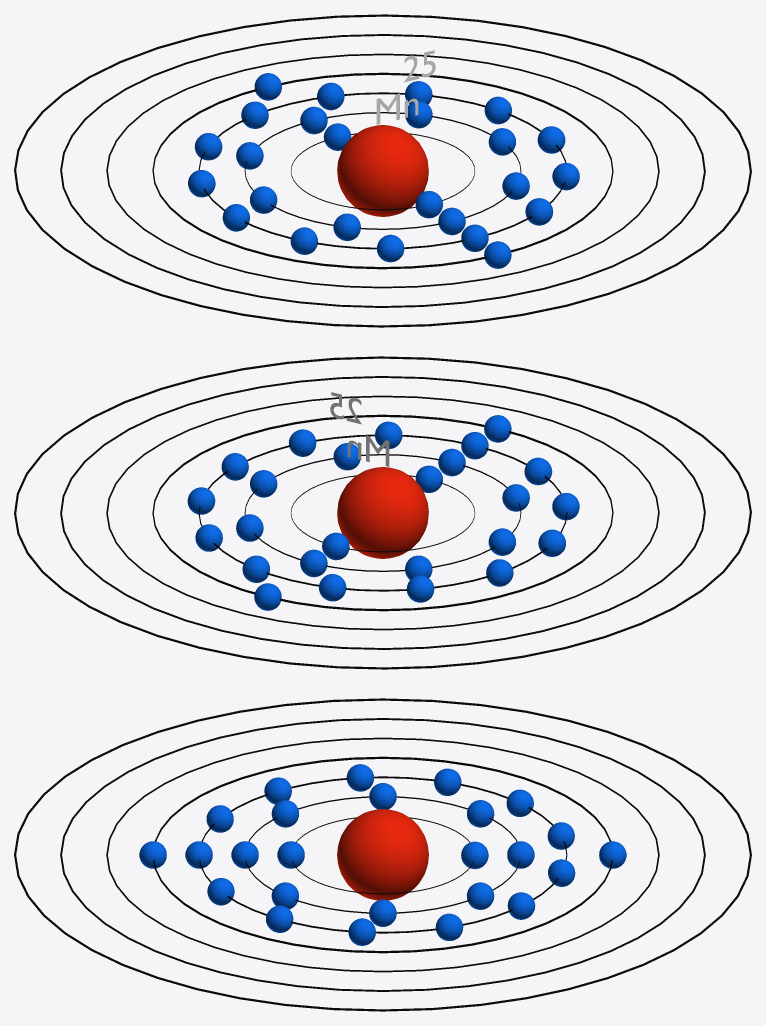
The picture shows the model from 3 angles, top to bottom: view 1: azimuth 30°, elevation 25°; view 2: azimuth 150°, elevation 25°; view 3: azimuth 270°, elevation 25°; orthographic projection.
Visible parts, largest first — view 1: Mn3, Proton, Mn2, n7, n6, n5, n4, n3, Mn4, Mn1, n2; view 2: Mn3, Proton, n7, Mn2, n6, n5, n4, n3, Mn4, Mn1, n2; view 3: Mn3, Proton, Mn2, n7, n6, n5, n4, n3, Mn1, Mn4, n2, n1.
Part boxes in pixels (left/top/right/bottom): Mn3: left=188, top=81, right=579, bottom=262; Proton: left=337, top=125, right=428, bottom=216; Mn2: left=236, top=101, right=529, bottom=240; n7: left=14, top=14, right=751, bottom=327; n6: left=60, top=34, right=705, bottom=307; n5: left=106, top=53, right=659, bottom=288; n4: left=152, top=72, right=613, bottom=269; n3: left=198, top=92, right=566, bottom=249; Mn4: left=254, top=73, right=511, bottom=268; Mn1: left=323, top=123, right=442, bottom=218; n2: left=244, top=112, right=521, bottom=229; Mn3: left=187, top=421, right=579, bottom=602; Proton: left=337, top=467, right=428, bottom=558; n7: left=14, top=356, right=751, bottom=669; Mn2: left=236, top=443, right=529, bottom=579; n6: left=60, top=376, right=705, bottom=649; n5: left=106, top=395, right=659, bottom=630; n4: left=152, top=414, right=613, bottom=611; n3: left=198, top=434, right=567, bottom=591; Mn4: left=254, top=415, right=511, bottom=610; Mn1: left=322, top=465, right=442, bottom=560; n2: left=244, top=454, right=521, bottom=571; Mn3: left=185, top=764, right=575, bottom=945; Proton: left=337, top=809, right=428, bottom=900; Mn2: left=231, top=783, right=534, bottom=926; n7: left=14, top=698, right=751, bottom=1011; n6: left=60, top=718, right=705, bottom=991; n5: left=106, top=737, right=659, bottom=972; n4: left=153, top=756, right=612, bottom=953; n3: left=199, top=776, right=567, bottom=933; Mn1: left=277, top=841, right=488, bottom=869; Mn4: left=139, top=841, right=626, bottom=868; n2: left=245, top=796, right=520, bottom=913; n1: left=292, top=817, right=473, bottom=894.
Bounding box in the file's own units: 802 × 180 × 802.
